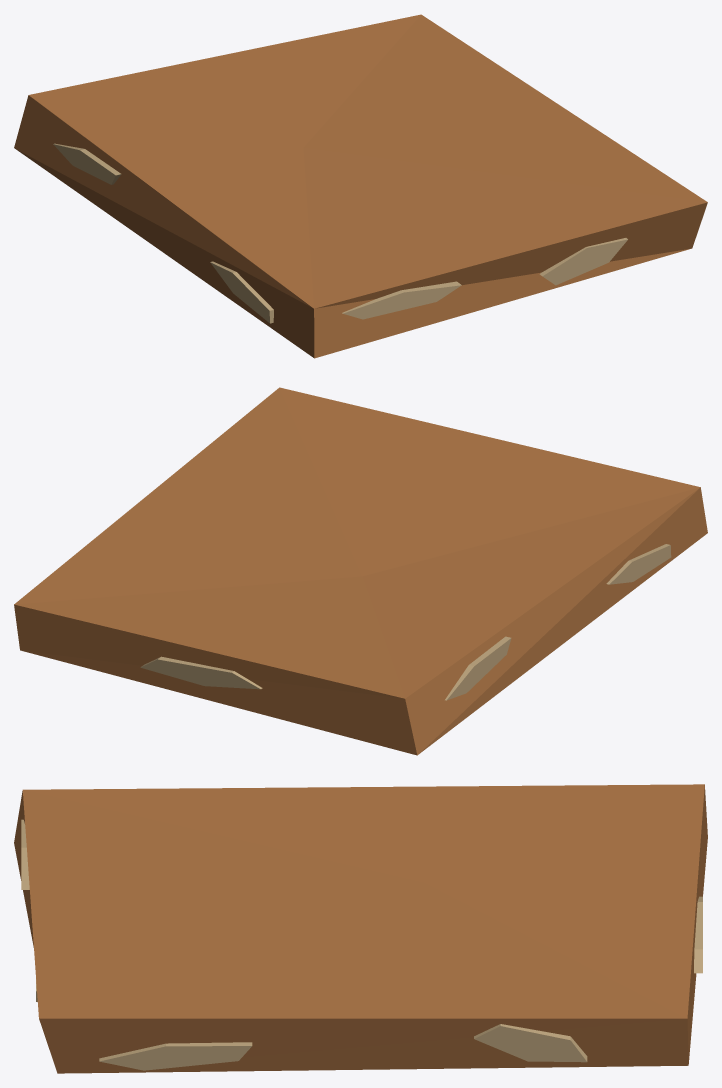
The model's file is SM_Toffee.fbx.
The picture shows the model from 3 angles, top to bottom: view 1: azimuth 30°, elevation 25°; view 2: azimuth 150°, elevation 25°; view 3: azimuth 270°, elevation 25°; orthographic projection. The views are drawn at different scales.
Parts seen in each view (by area): view 1: Toffee; view 2: Toffee; view 3: Toffee.
Boxes of the visible parts, x1,y1,x2,y2 form: Toffee: [14, 14, 707, 358]; Toffee: [14, 387, 707, 755]; Toffee: [14, 784, 707, 1073].
Bounding box in the file's own units: 0.1386 × 0.0162 × 0.1688.
